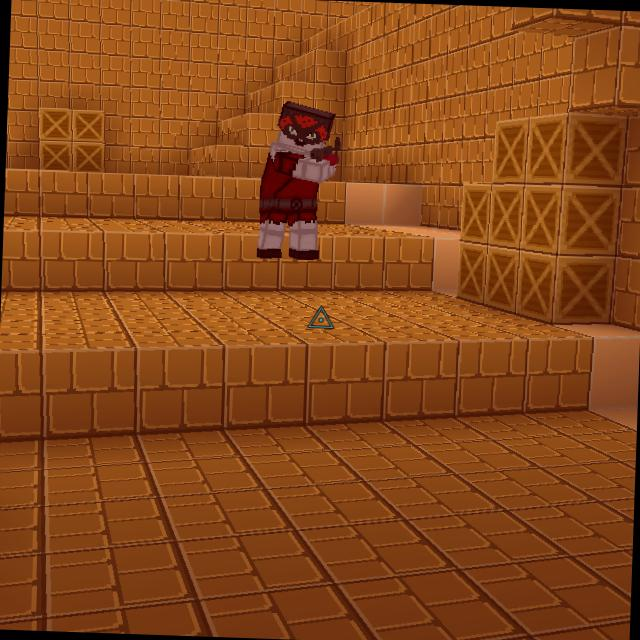enemy: (255, 94, 340, 262)
